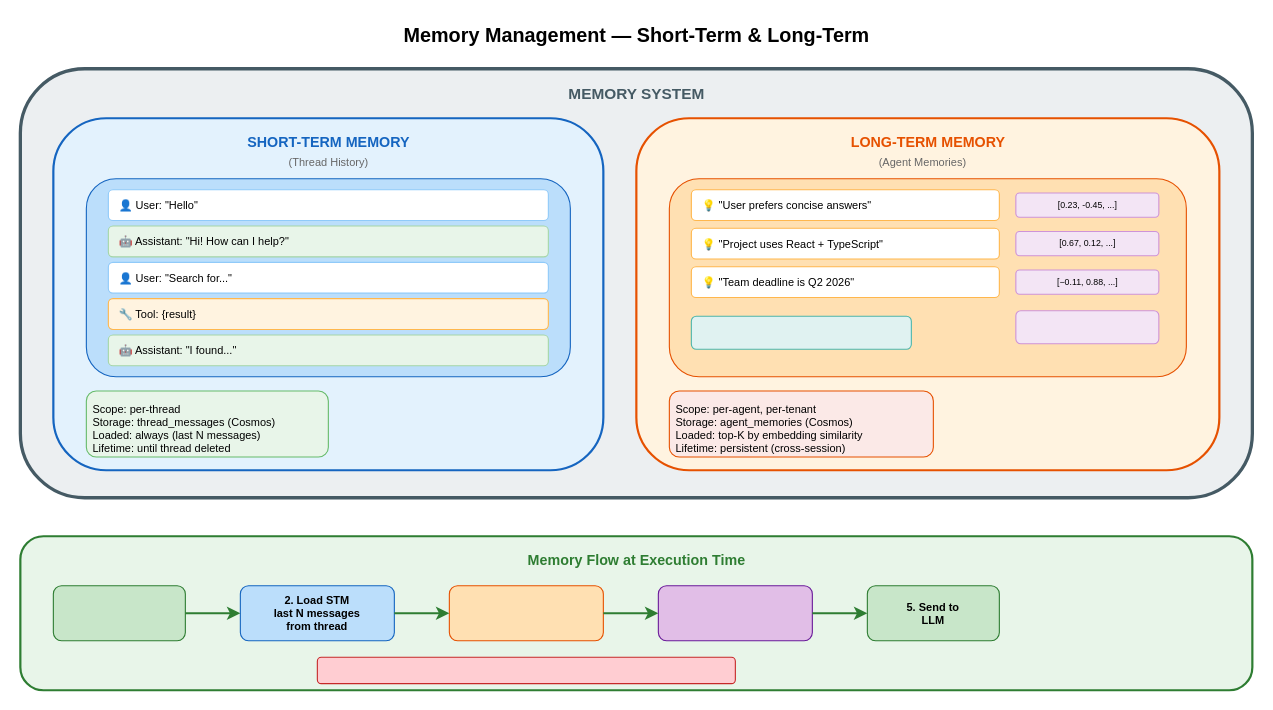
This 1273x710 diagram has some shape labels left out. Each missing label, with the centre of its shape:
"1. User sends message" goes at pixel 118 613.
"3. Load LTM top-K memories by similarity" goes at pixel 525 613.
"4. Inject both into system prompt context" goes at pixel 734 613.
"Agent A's memories are NEVER injected into Agent B's context" goes at pixel 525 670.
"Extracted via extract_memories_from_thread" goes at pixel 800 332.
"text-embedding-3-small 1536 dimensions" goes at pixel 1087 327.
